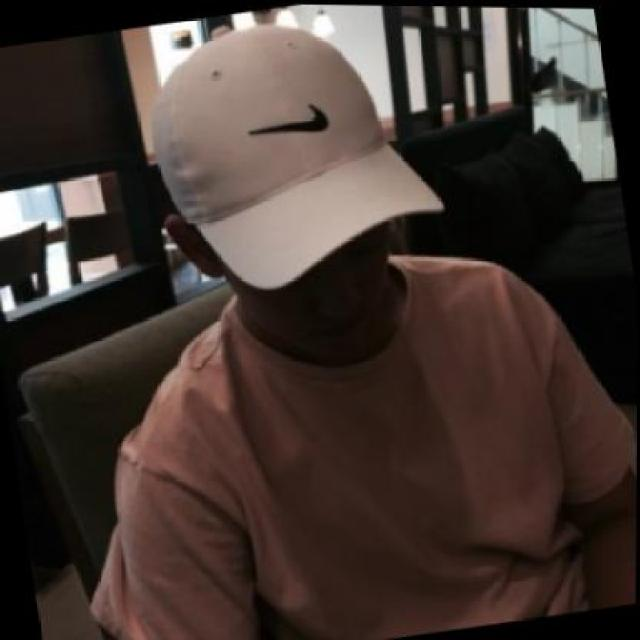hat: (137, 2, 451, 302)
